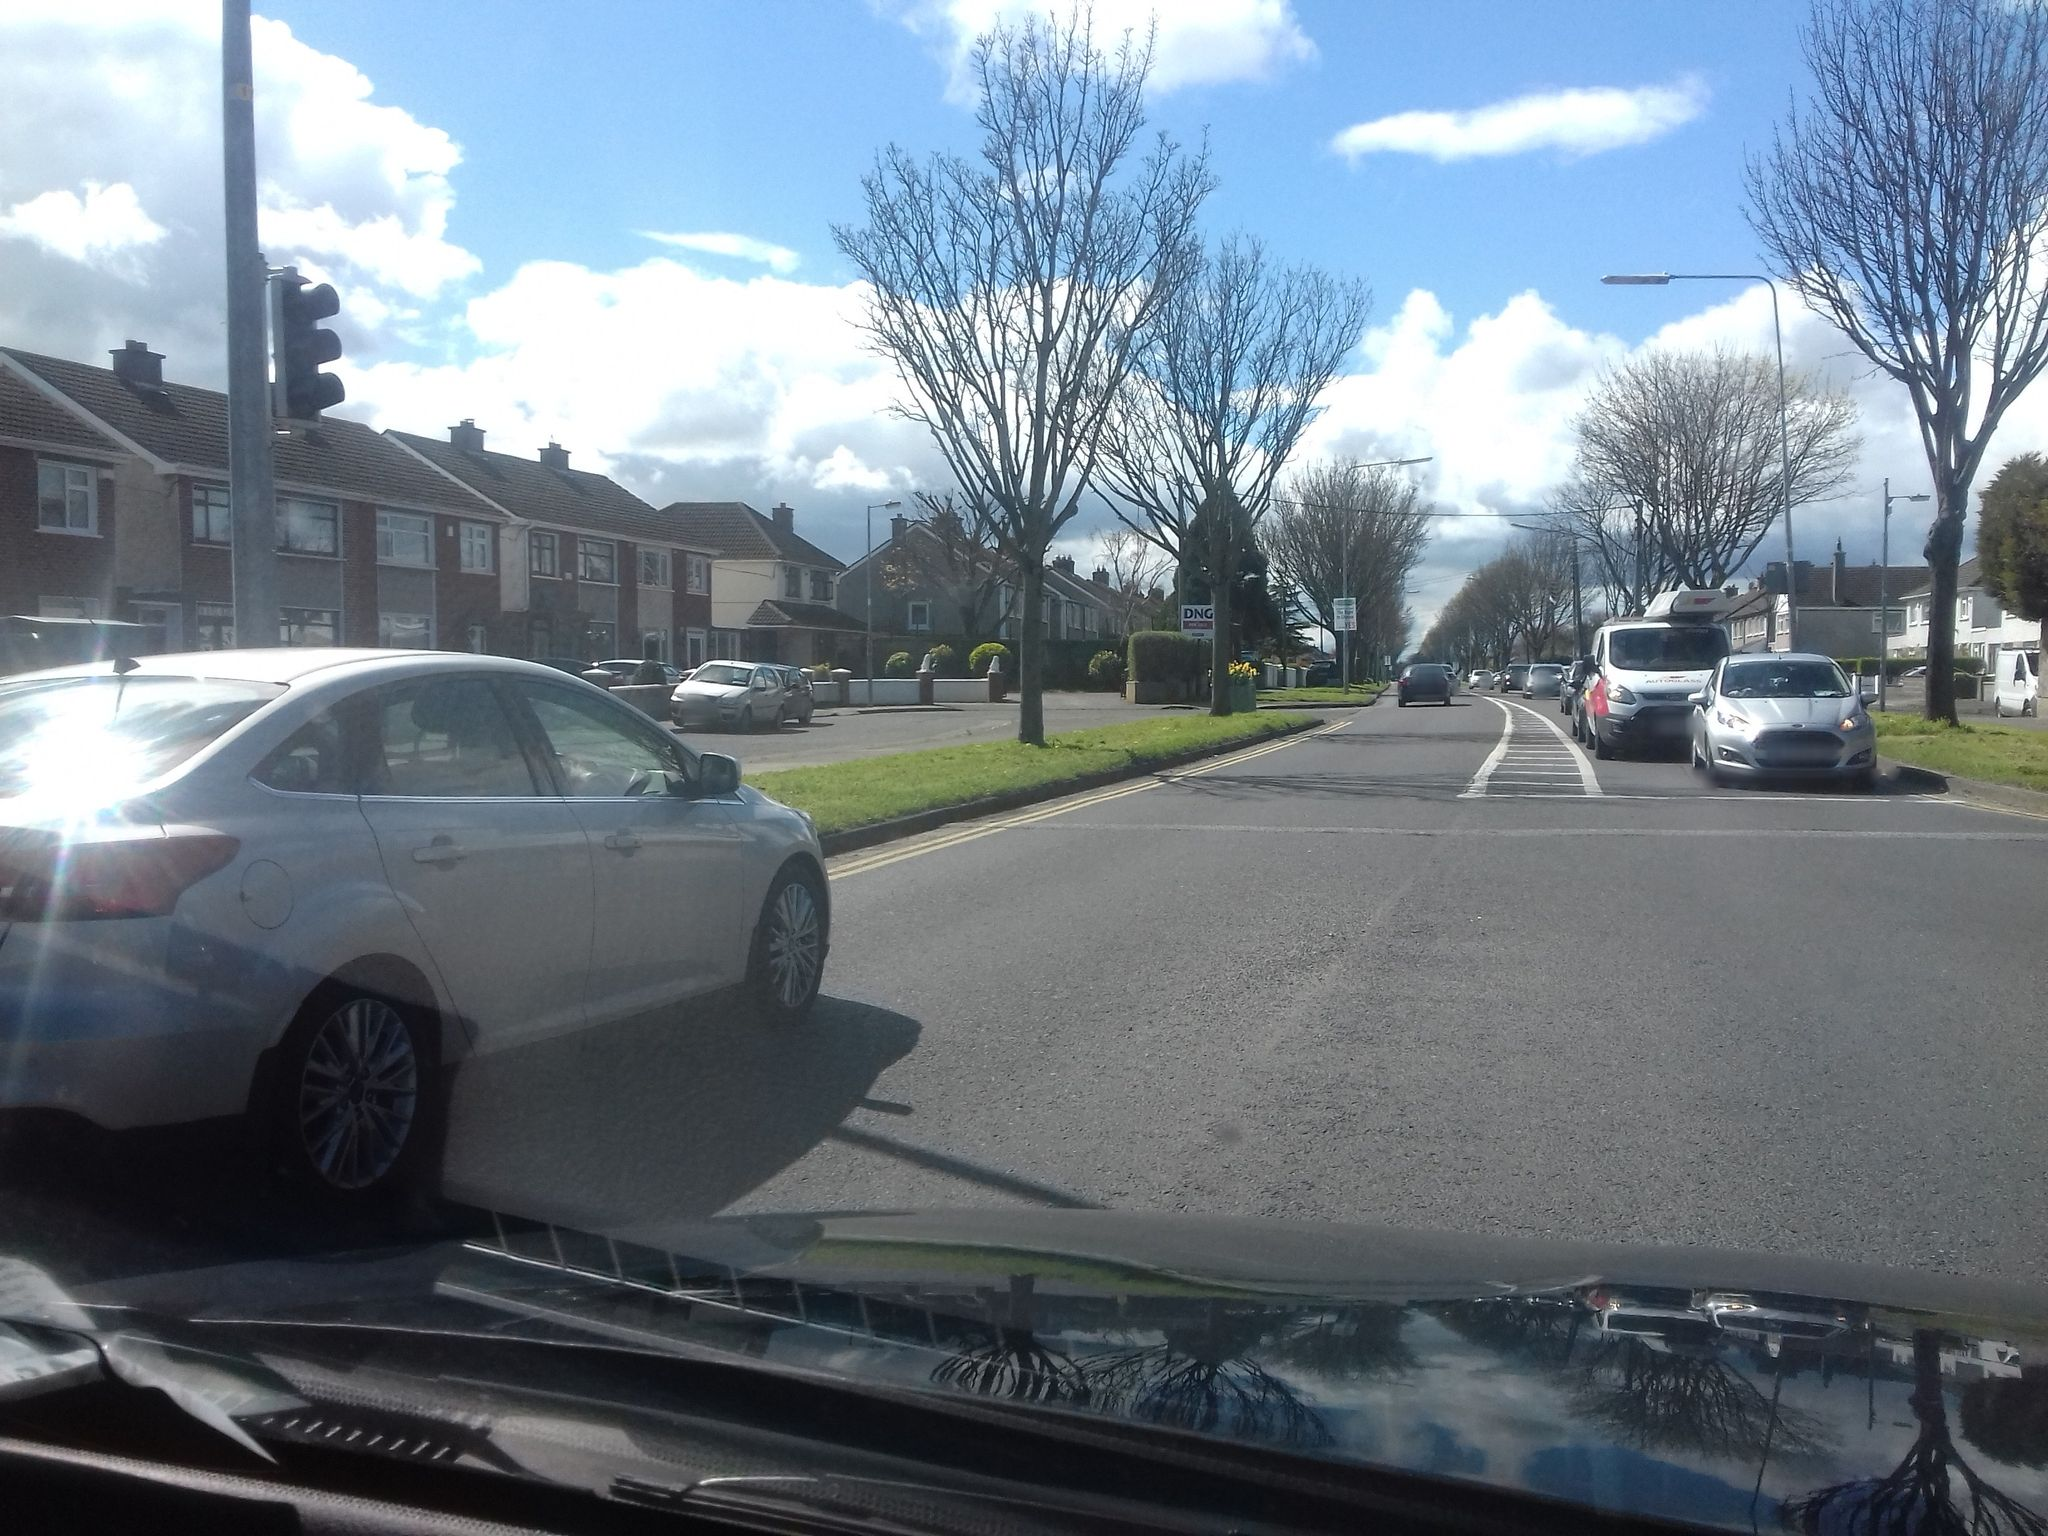property sign: (1179, 582, 1229, 641)
